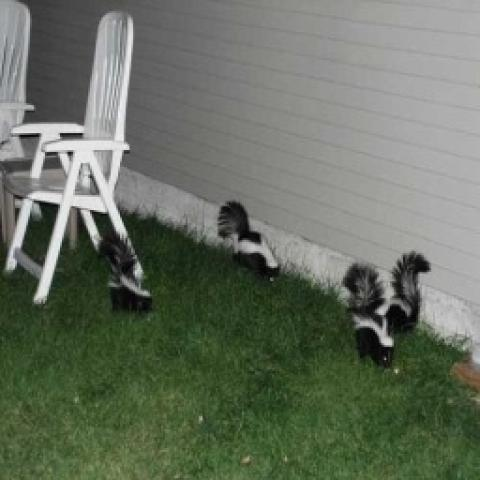small_animal: (214, 198, 282, 286), (342, 257, 396, 367), (94, 231, 159, 318), (372, 253, 433, 334)
